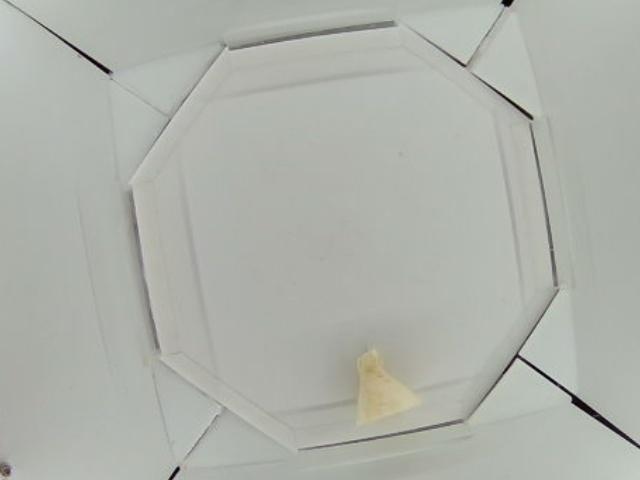Mooli: (354, 347, 419, 424)
